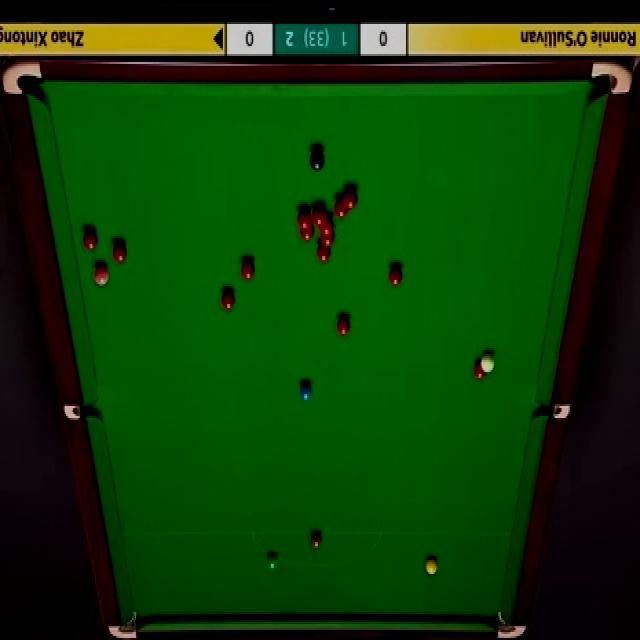pocket: (0, 57, 43, 98), (592, 62, 632, 98), (496, 606, 529, 640), (110, 609, 139, 640), (62, 403, 100, 420), (536, 403, 572, 420)
